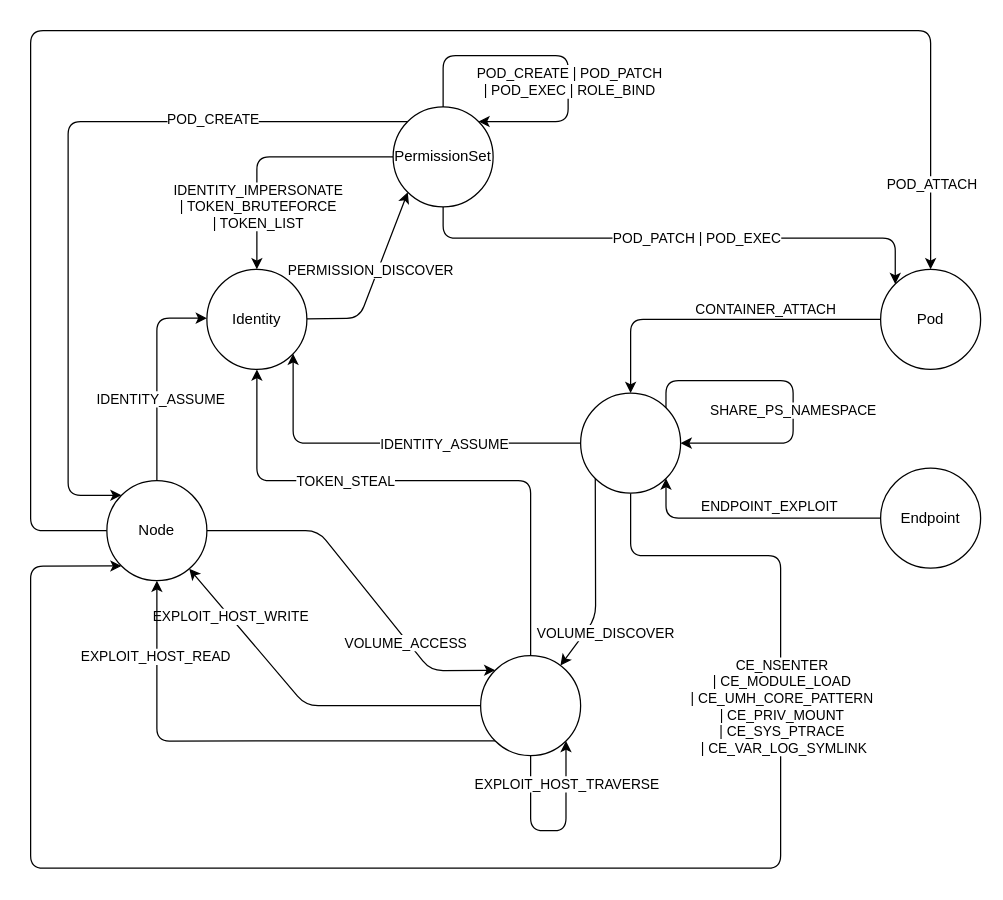
Image size: 1003x900. Some labels were removed from this diagram. The shapes that lost their labels are listed below. From the top down, each one's centre as x and y in pixels, then its label:
At (630,442): "Container".
At (530,705): "Volume".
